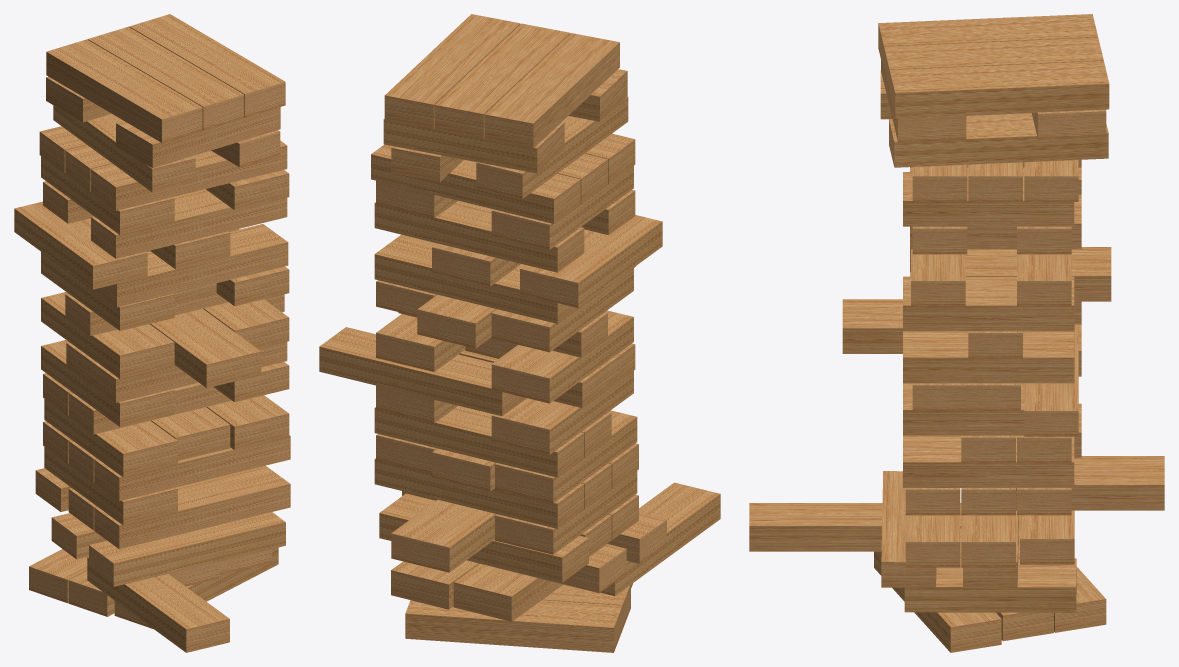
Rendered from Shenga.fbx.
3 views of the same model, side by side, from view 1: azimuth 30°, elevation 25°; view 2: azimuth 150°, elevation 25°; view 3: azimuth 270°, elevation 25° (orthographic). The views are drawn at different scales.
Visible parts, largest first — view 1: pCube3.045, pCube3.014, pCube3.041, pCube3.004, pCube3.039, pCube3.003, pCube3.026, pCube3.049, pCube3.048, pCube3.016, pCube3.010, pCube3.029 (+36 smaller); view 2: pCube3.038, pCube3.045, pCube3.030, pCube3.026, pCube3.049, pCube3.025, pCube3.048, pCube3.032, pCube3.027, pCube3.029, pCube3.023, pCube3.021 (+37 smaller); view 3: pCube3.048, pCube3.006, pCube3.046, pCube3.039, pCube3.005, pCube3.037, pCube3.009, pCube3.049, pCube3.045, pCube3.021, pCube3.002, pCube3.013 (+29 smaller).
Boxes of the visible parts, x1,y1,x2,y2 form: pCube3.045: [46, 39, 202, 142]; pCube3.014: [94, 465, 290, 549]; pCube3.041: [89, 512, 285, 586]; pCube3.004: [92, 224, 288, 307]; pCube3.039: [87, 556, 229, 652]; pCube3.003: [91, 189, 287, 258]; pCube3.026: [14, 201, 147, 289]; pCube3.049: [87, 26, 244, 130]; pCube3.048: [129, 14, 285, 117]; pCube3.016: [150, 308, 261, 388]; pCube3.010: [94, 435, 290, 501]; pCube3.029: [41, 292, 174, 378]; pCube3.038: [405, 600, 622, 652]; pCube3.045: [484, 33, 619, 148]; pCube3.030: [319, 327, 526, 416]; pCube3.026: [520, 215, 662, 307]; pCube3.049: [434, 23, 570, 139]; pCube3.025: [374, 200, 584, 272]; pCube3.048: [384, 14, 520, 129]; pCube3.032: [374, 405, 584, 477]; pCube3.027: [374, 234, 583, 323]; pCube3.029: [491, 310, 633, 403]; pCube3.023: [371, 144, 580, 223]; pCube3.021: [391, 499, 496, 572]; pCube3.048: [889, 61, 1109, 118]; pCube3.006: [903, 331, 1074, 383]; pCube3.046: [889, 113, 1108, 167]; pCube3.039: [749, 503, 961, 551]; pCube3.005: [903, 276, 1074, 331]; pCube3.037: [904, 558, 1076, 612]; pCube3.009: [903, 435, 1074, 487]; pCube3.049: [884, 37, 1103, 94]; pCube3.045: [878, 14, 1097, 70]; pCube3.021: [1016, 456, 1164, 510]; pCube3.002: [903, 172, 1074, 226]; pCube3.013: [965, 247, 1111, 301].
Size of the model in its own units: 107 by 204 by 139.
